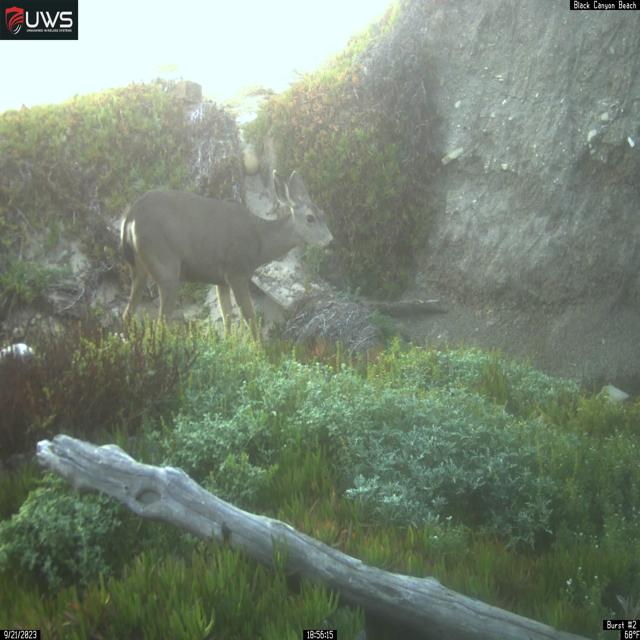deer: (119, 169, 335, 354)
